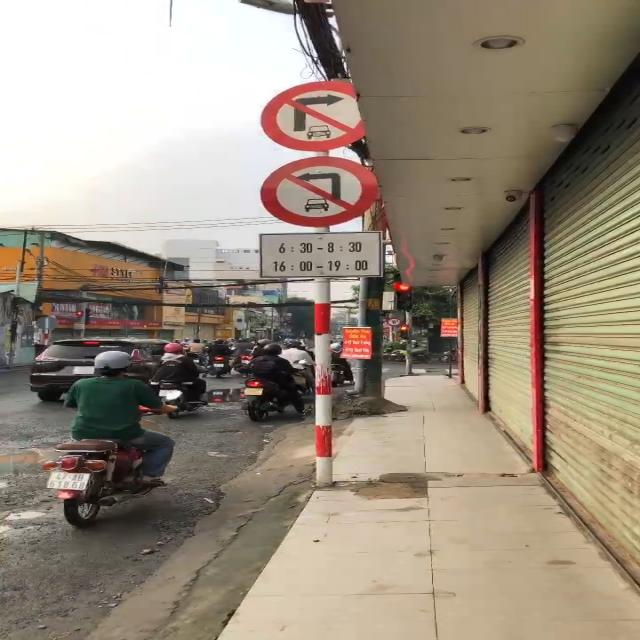Bien bao cam xe o to re phai: (252, 78, 386, 151)
Bien bao cam xe o to re trai: (260, 152, 414, 234)
